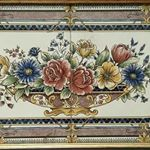other: (33, 45, 115, 103)
